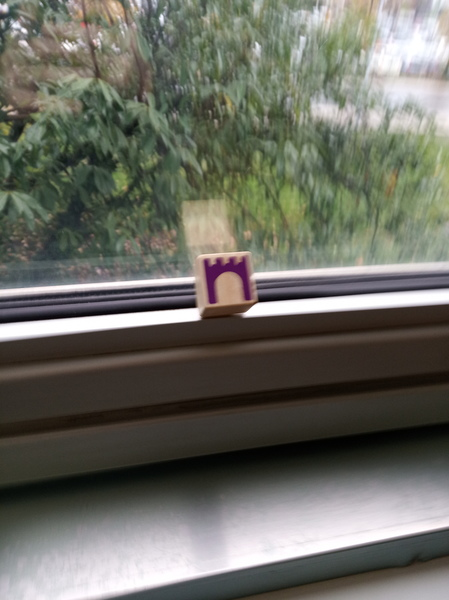violet: (198, 250, 260, 312)
